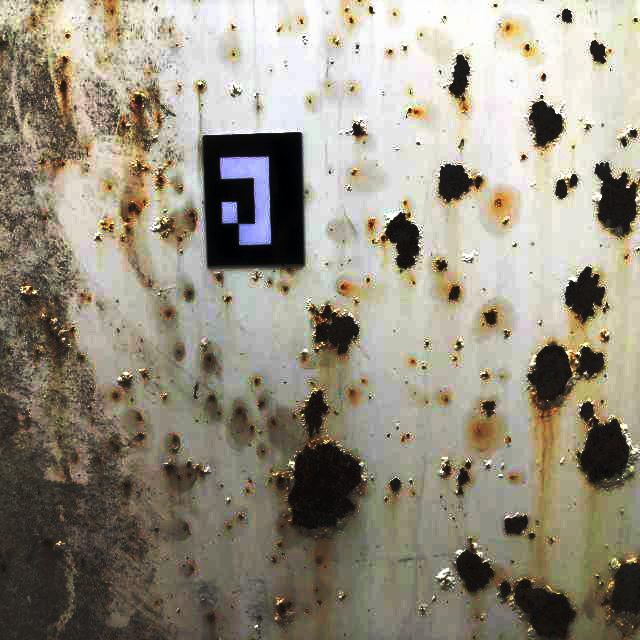Corrosion: (275, 437, 363, 539), (576, 399, 640, 490), (526, 340, 605, 411), (497, 577, 578, 640), (594, 159, 640, 238), (601, 556, 640, 640), (306, 299, 360, 355), (381, 210, 421, 273), (563, 265, 605, 325), (454, 537, 495, 594), (528, 94, 565, 148), (438, 162, 483, 203), (300, 388, 329, 442), (447, 53, 471, 102), (554, 173, 579, 200), (504, 514, 529, 538), (45, 315, 61, 351), (273, 597, 292, 626), (590, 39, 608, 63), (620, 126, 638, 147), (349, 120, 369, 138), (40, 537, 57, 558), (457, 465, 471, 487), (480, 400, 495, 416), (133, 93, 146, 109), (448, 285, 460, 301), (0, 551, 8, 575), (390, 476, 401, 493), (485, 310, 496, 325), (442, 459, 451, 476), (562, 8, 572, 23), (436, 259, 448, 271), (441, 577, 450, 592), (119, 375, 131, 386), (194, 465, 204, 476), (110, 439, 120, 450), (602, 330, 611, 342), (155, 174, 164, 186), (60, 78, 67, 92), (165, 465, 175, 474), (128, 204, 139, 212), (189, 212, 196, 224), (457, 485, 464, 496), (207, 615, 215, 624), (215, 273, 223, 282), (368, 218, 375, 228), (464, 459, 471, 469), (316, 557, 323, 566), (172, 435, 179, 444), (340, 283, 348, 290), (505, 330, 512, 338), (197, 80, 204, 88), (258, 401, 265, 408), (236, 409, 243, 416), (482, 372, 489, 379), (506, 437, 513, 444), (165, 311, 172, 318), (123, 483, 131, 489), (254, 378, 260, 386), (238, 514, 244, 522), (206, 356, 212, 364), (542, 72, 548, 80), (402, 42, 408, 50), (81, 558, 86, 567), (530, 532, 536, 539), (208, 396, 215, 402), (522, 153, 528, 160), (77, 354, 84, 360), (142, 371, 148, 378), (225, 296, 231, 302), (283, 286, 289, 292), (95, 234, 101, 240), (121, 119, 125, 128), (425, 341, 430, 348), (370, 5, 375, 12), (96, 457, 101, 464), (62, 55, 67, 62), (604, 304, 608, 312), (606, 302, 610, 310), (456, 340, 461, 346), (272, 420, 277, 426), (272, 558, 277, 564), (256, 617, 262, 622), (635, 16, 640, 22), (442, 14, 447, 20), (138, 434, 143, 440), (137, 414, 142, 420), (159, 220, 162, 230), (527, 43, 531, 50), (349, 15, 353, 22), (108, 223, 112, 230), (317, 601, 322, 606), (586, 124, 591, 129), (388, 47, 393, 52), (124, 217, 129, 222), (250, 426, 254, 432), (254, 272, 257, 280), (355, 298, 359, 304), (187, 462, 191, 468), (69, 326, 72, 334), (35, 350, 39, 356), (278, 543, 282, 548), (288, 267, 292, 272), (154, 529, 159, 533), (177, 475, 181, 480), (187, 473, 191, 478), (385, 498, 388, 504), (408, 106, 411, 112), (494, 2, 498, 6), (597, 576, 601, 580), (28, 286, 32, 290), (282, 525, 285, 530), (367, 277, 370, 282), (407, 434, 410, 438)
